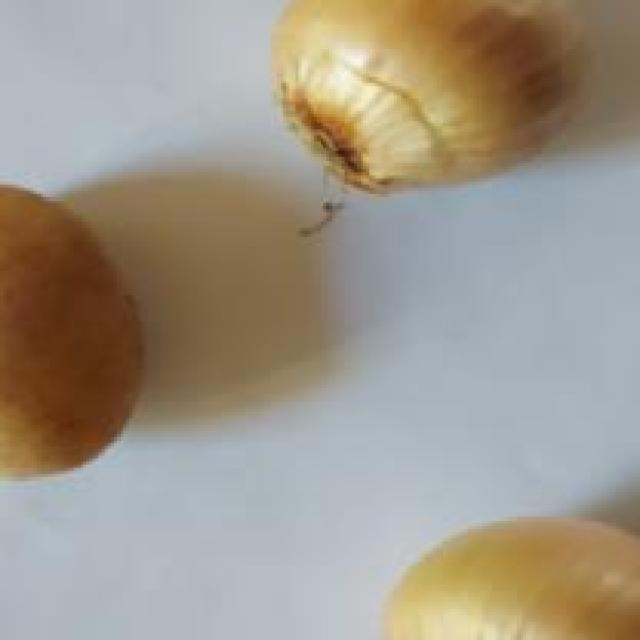onion: (262, 0, 600, 188), (357, 507, 640, 640)
potato: (0, 182, 154, 486)
